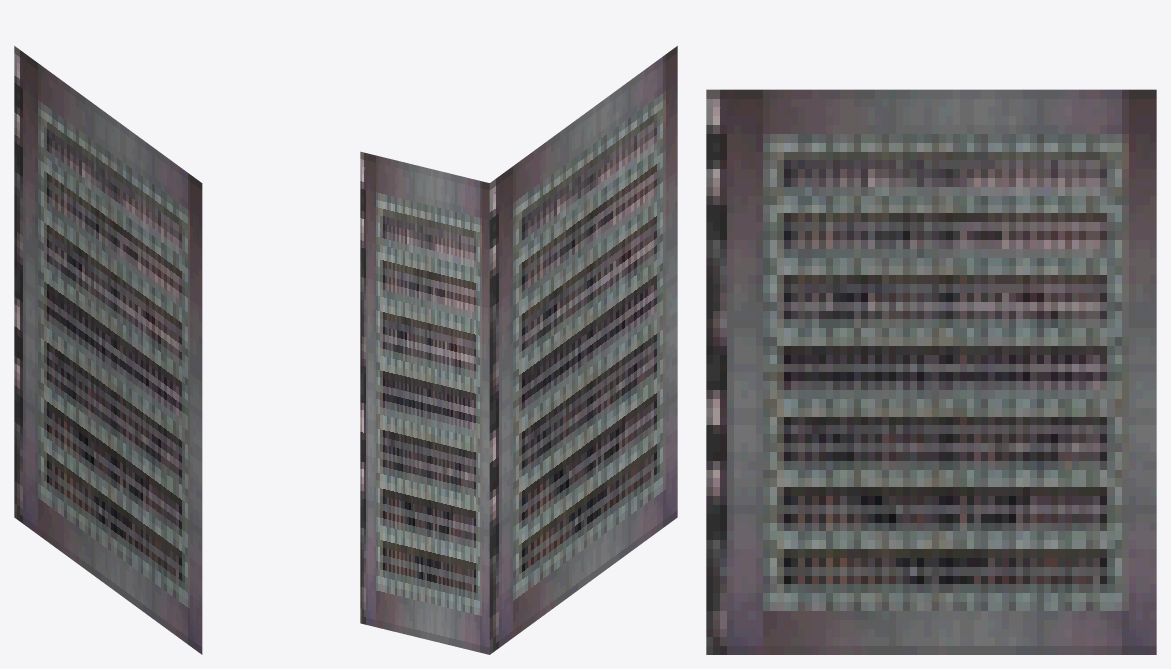
The model's file is DOOR06.glb.
3 renders of one model, left to right at view 1: azimuth 30°, elevation 25°; view 2: azimuth 150°, elevation 25°; view 3: azimuth 270°, elevation 25°, orthographic. The views are drawn at different scales.
Parts seen in each view (by area): view 1: DOOR06; view 2: DOOR06; view 3: DOOR06.
Part boxes in pixels (x1,y1,x2,y2): DOOR06: [14, 46, 202, 654]; DOOR06: [360, 46, 677, 654]; DOOR06: [706, 89, 1156, 654].
Size of the model in its own units: 431 by 1499 by 1083.
1 material, 1 textured.
